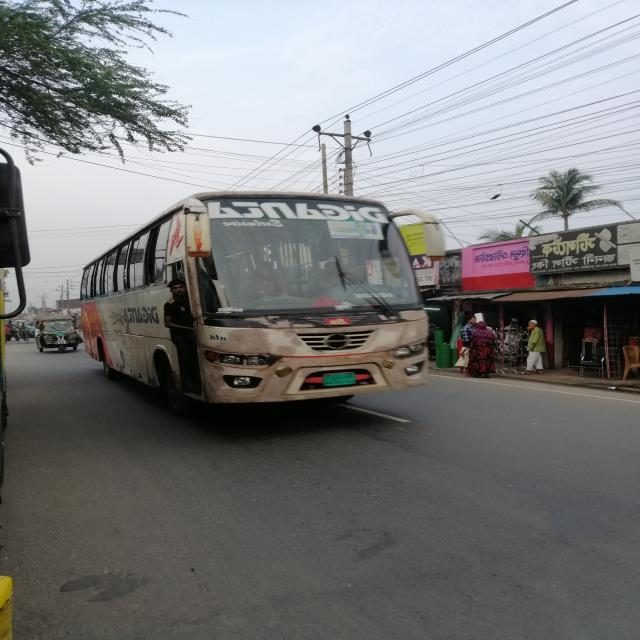Bus: (63, 188, 452, 422)
